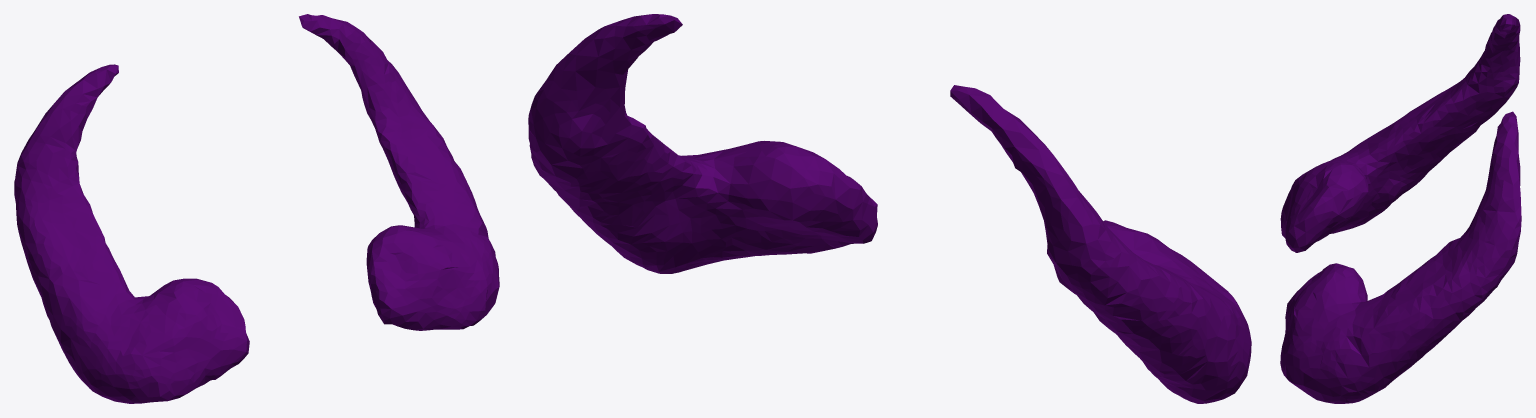
Rendered from 179-Hip-hippocampus-('0.3843', '0.0000', '0.4980').obj.
3 views of the same model, side by side, from view 1: azimuth 30°, elevation 25°; view 2: azimuth 150°, elevation 25°; view 3: azimuth 270°, elevation 25° (orthographic). The views are drawn at different scales.
Bounding box in the file's own units: 209 × 119 × 104.
